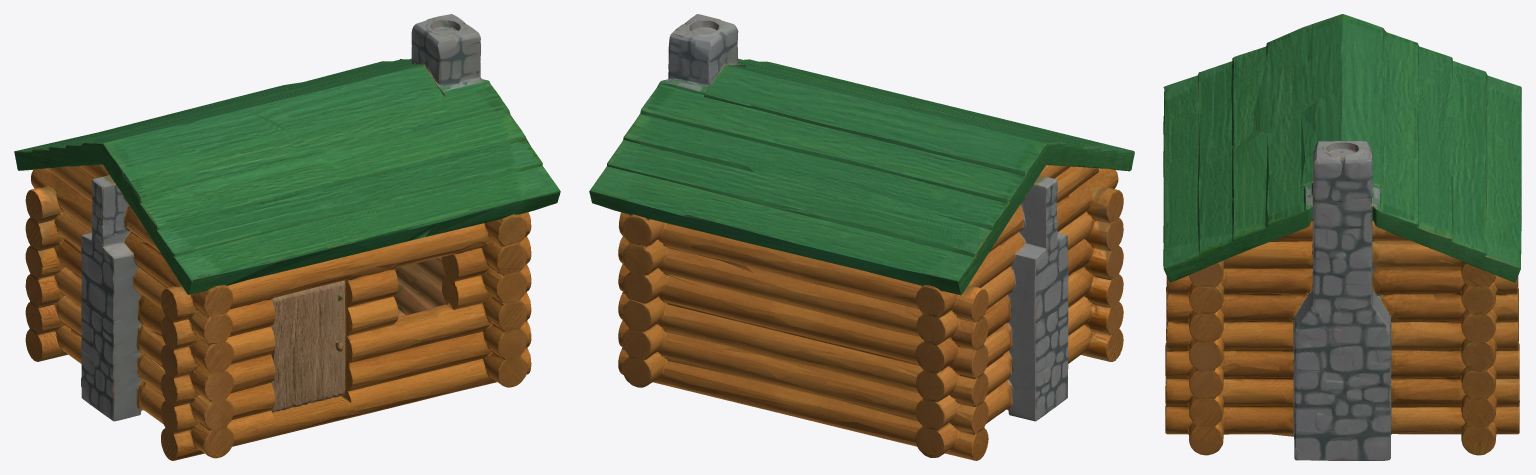
File: house-wranglers.glb
3 renders of one model, left to right at view 1: azimuth 30°, elevation 25°; view 2: azimuth 150°, elevation 25°; view 3: azimuth 270°, elevation 25°, orthographic.
Bounding box in the file's own units: 1.9 × 1.45 × 1.55.
1 material, 1 textured.
